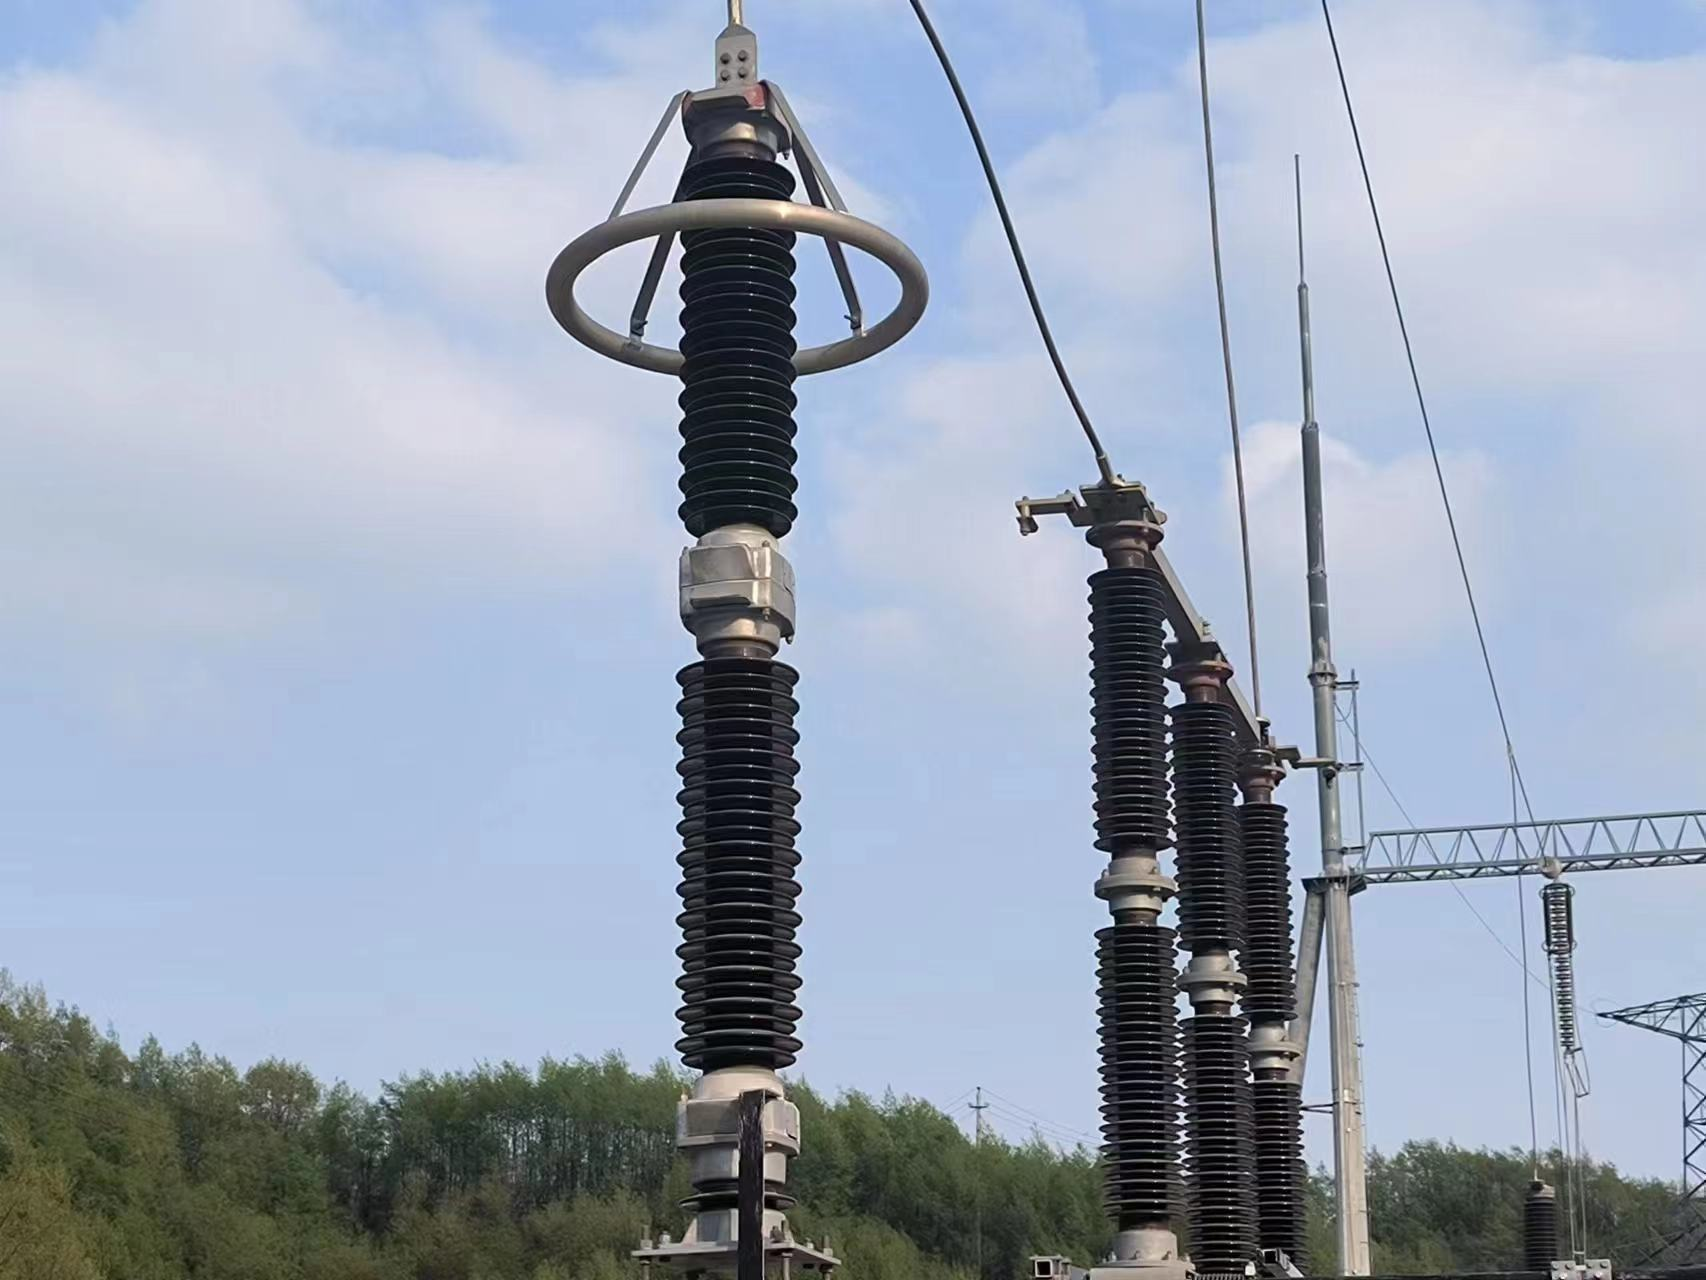Arrester: (539, 52, 936, 1077)
